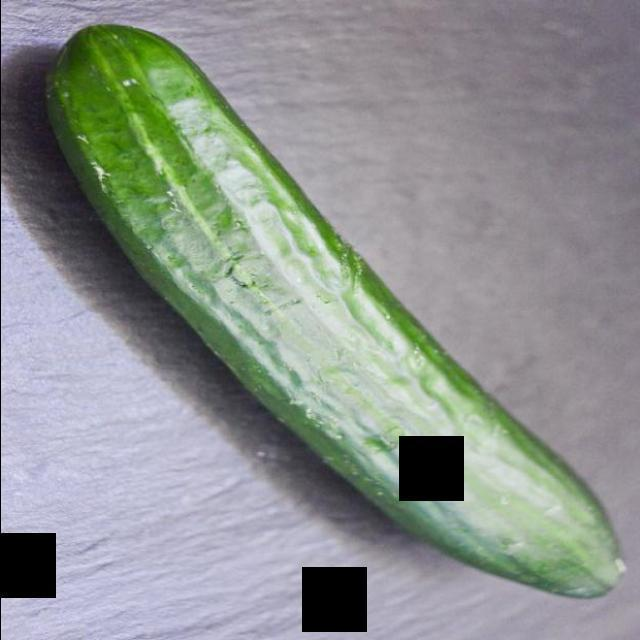cucumber: (35, 19, 629, 603)
